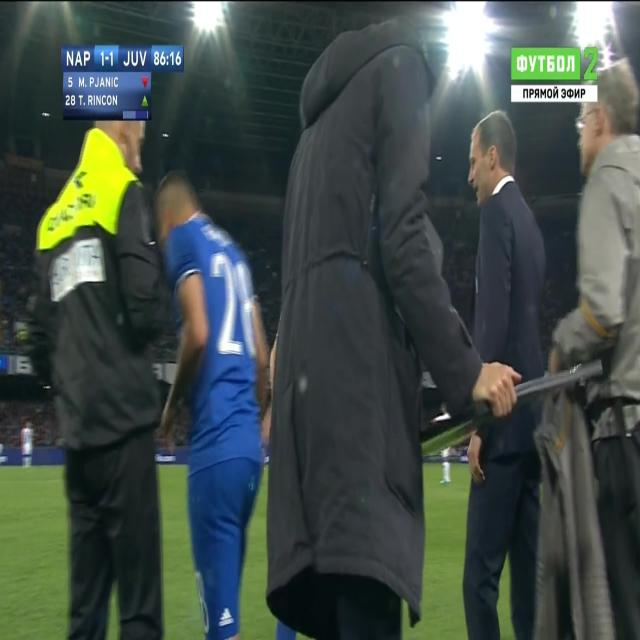Player: (153, 176, 271, 640)
